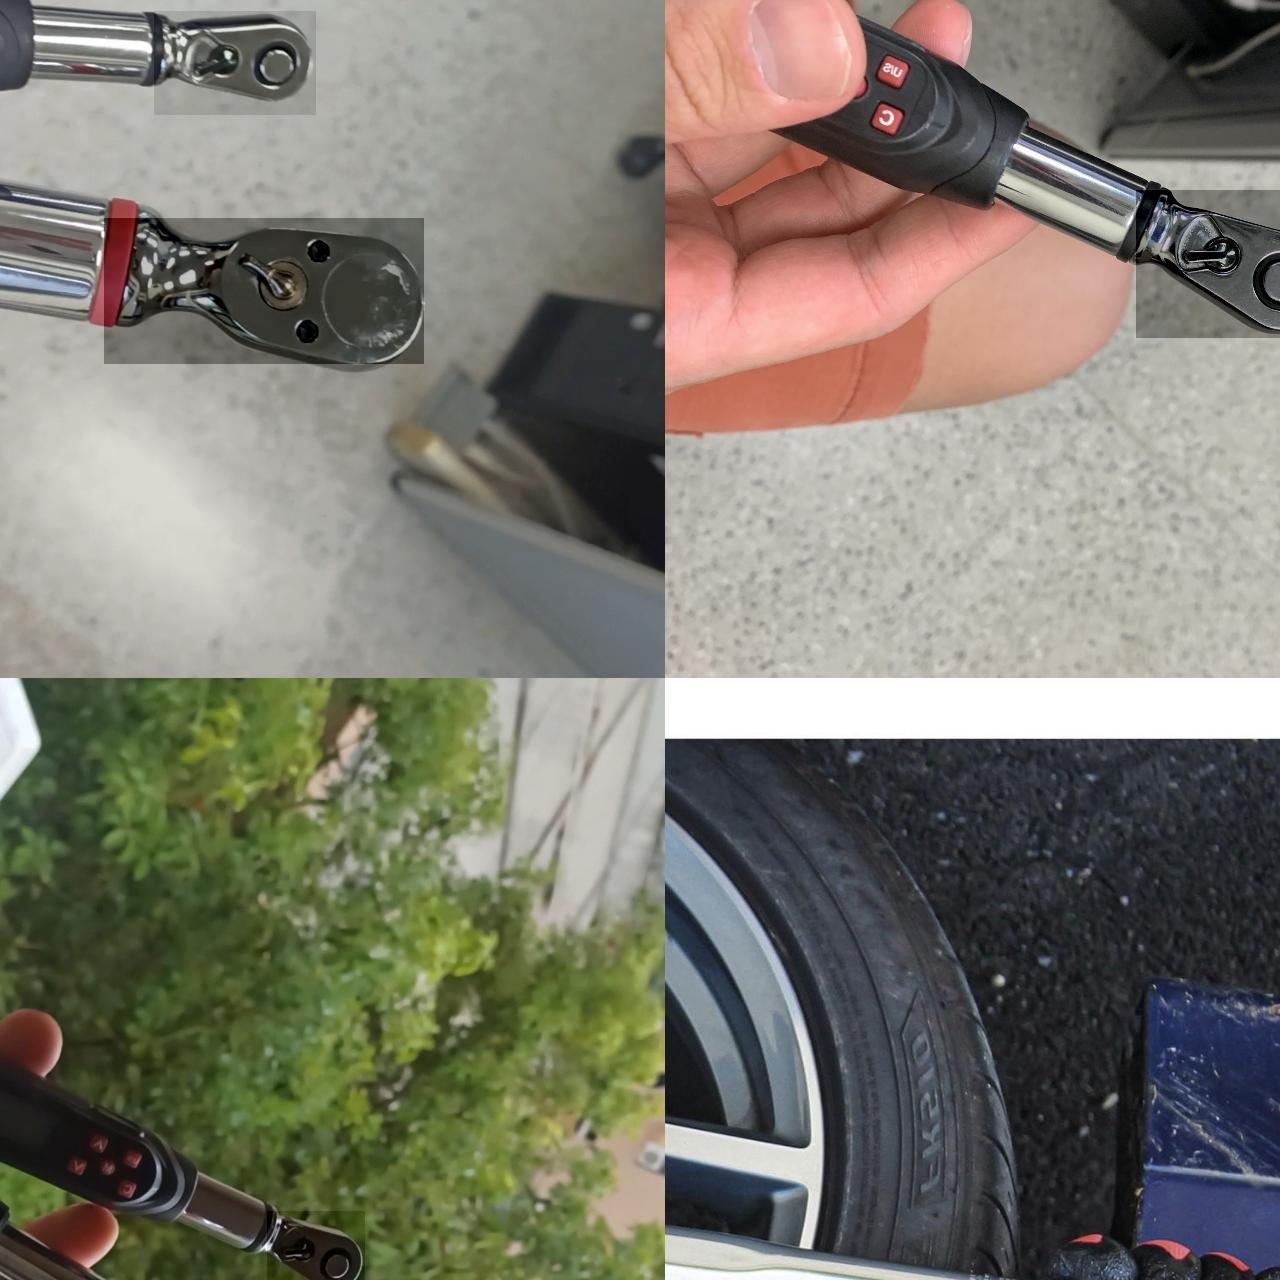Tool: (104, 218, 424, 365), (1136, 190, 1280, 338), (154, 11, 316, 115), (267, 1211, 365, 1280)
